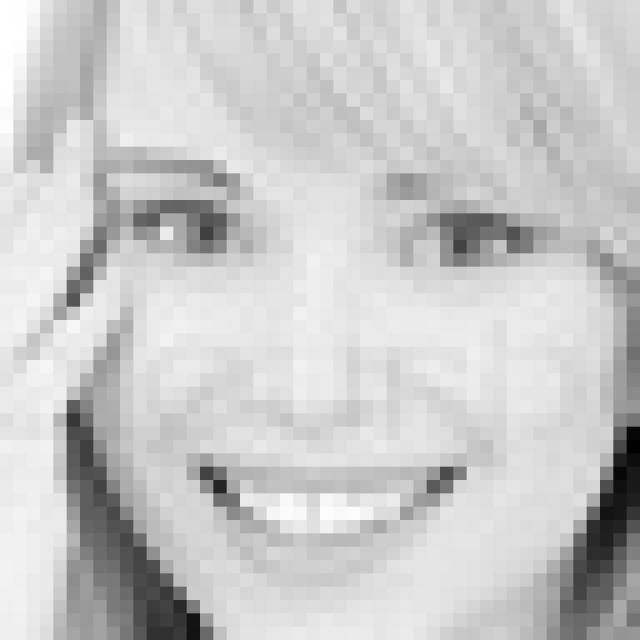happy: (121, 146, 576, 594)
